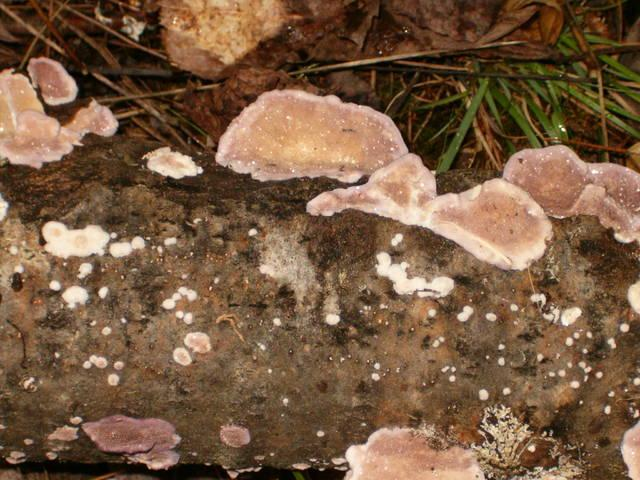Non-edible Mushroom: (305, 151, 554, 272), (213, 86, 409, 184), (501, 142, 639, 246)
